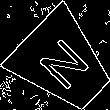N_SE: (32, 32, 95, 96)
